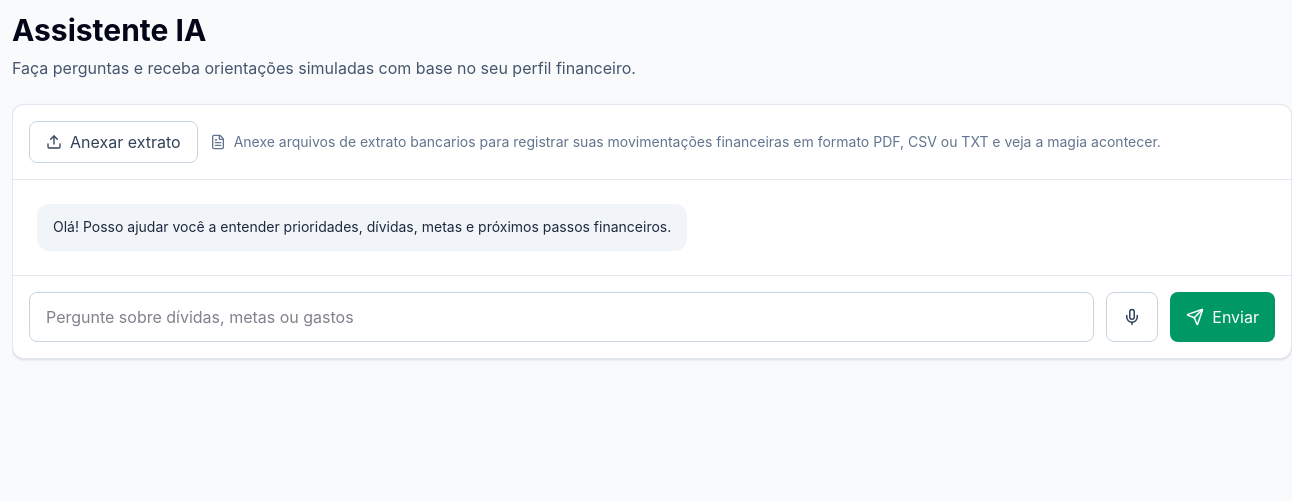
Test case: AIAssistant › exibe a mensagem do usuário ao enviar
This screenshot has width=1292, height=502.
Type "Como estão minhas finanças?" into the field with placeholder "Pergunte sobre dívidas, metas ou gastos". click: x=562, y=317
box: x1=29 y1=292 x2=1094 y2=342
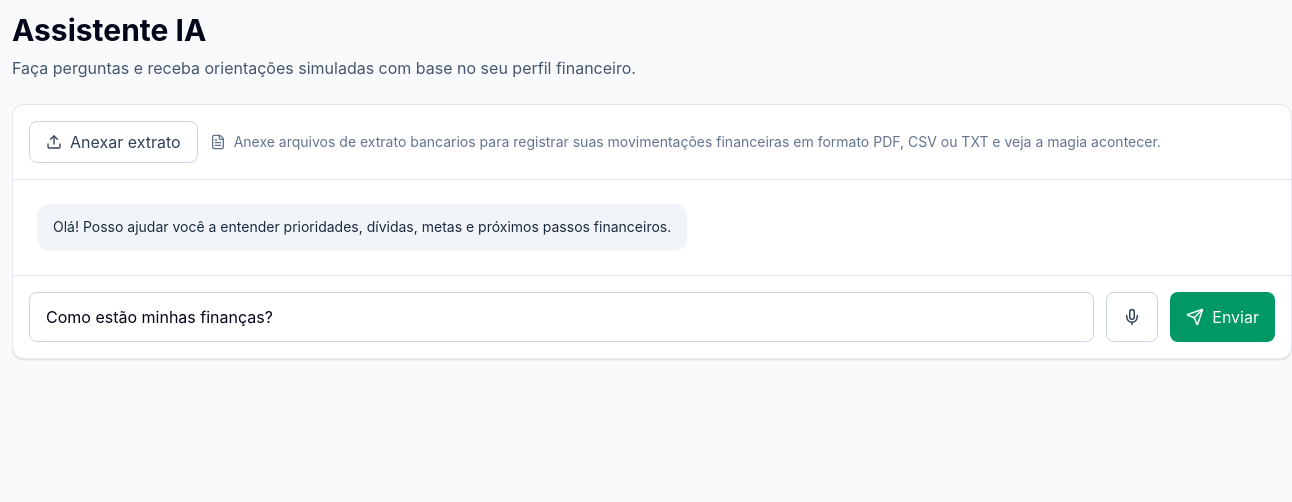
Click the button "Enviar". click: x=1223, y=317
box: x1=1170 y1=292 x2=1275 y2=342
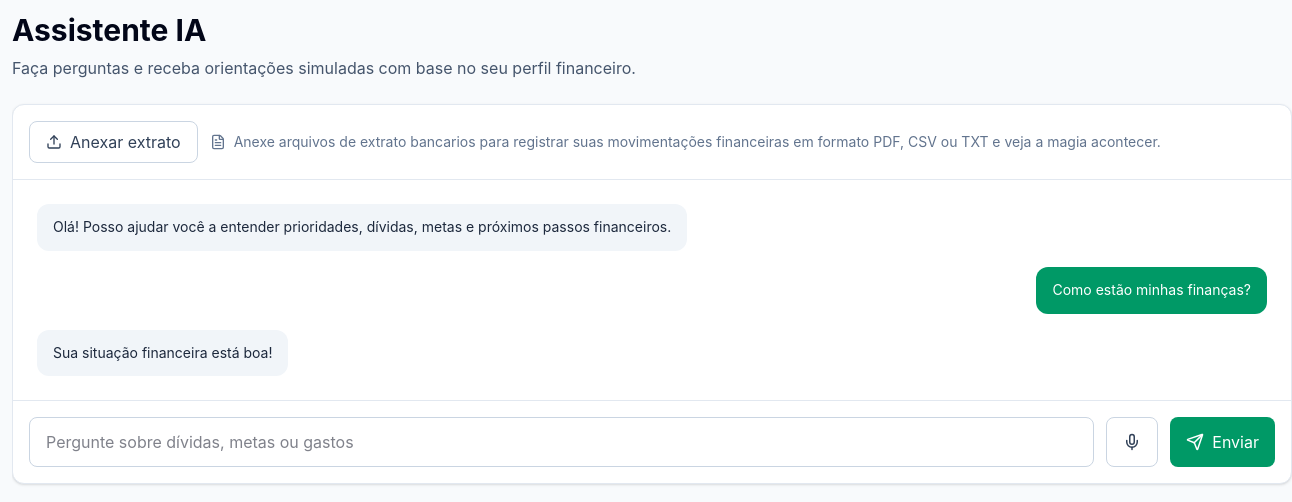
Expected: the text "Como estão minhas finanças?" is shown, x1=1036 y1=267 x2=1267 y2=314
